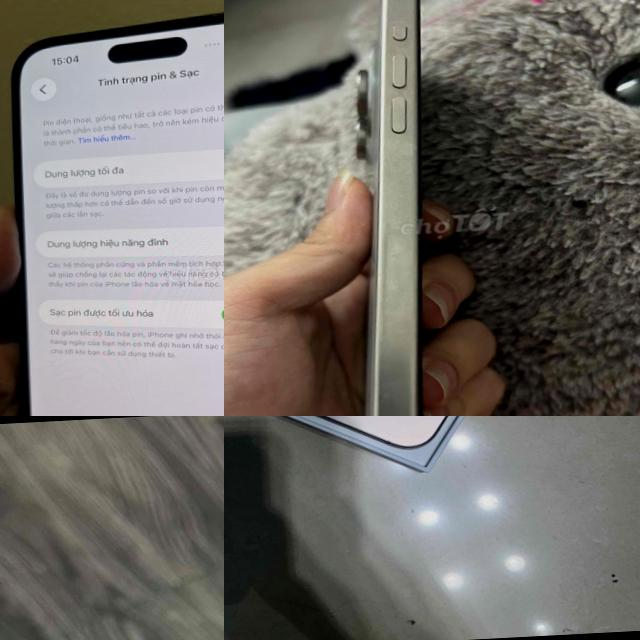gen_11: (5, 456, 224, 640)
gen_14: (0, 0, 224, 416)
gen_15: (327, 0, 472, 416)
